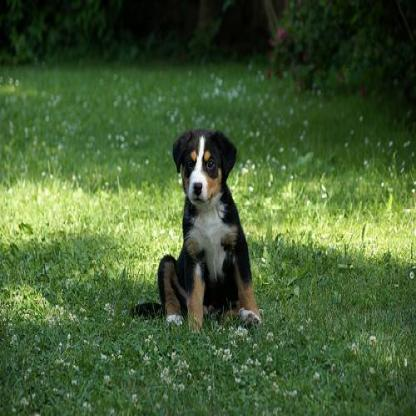Appenzeller: (156, 127, 261, 331)
